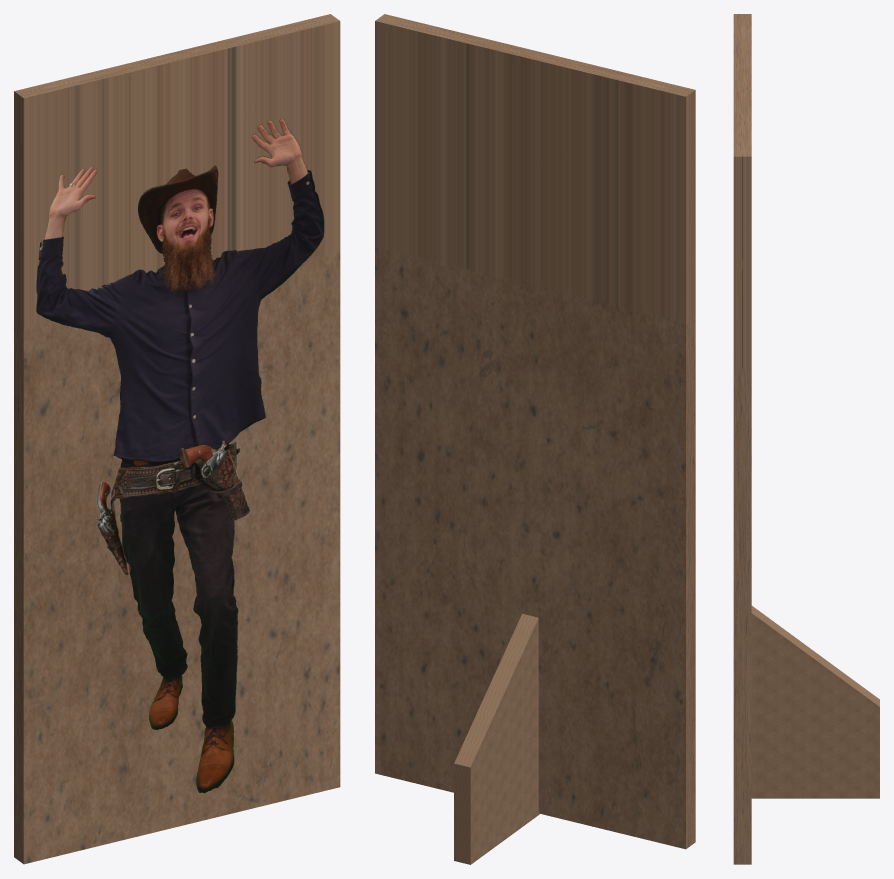
3 renders of one model, left to right at view 1: azimuth 30°, elevation 25°; view 2: azimuth 150°, elevation 25°; view 3: azimuth 270°, elevation 25°, orthographic. The views are drawn at different scales.
Visible parts, largest first — view 1: Cube, 3-shot_lost; view 2: Cube, Cube.001; view 3: Cube.001, Cube.
Boxes of the visible parts, x1,y1,x2,y2 form: Cube: (14,14,340,864); 3-shot_lost: (36,118,324,792); Cube: (375,14,695,849); Cube.001: (454,614,539,864); Cube.001: (751,606,879,798); Cube: (733,14,751,864).
Bounding box in the file's own units: 584 × 1316 × 252.
